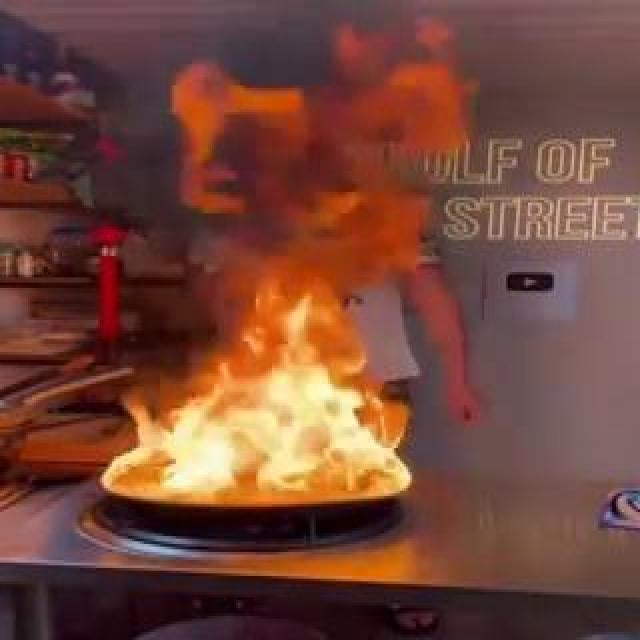Fire: (267, 320, 368, 354)
